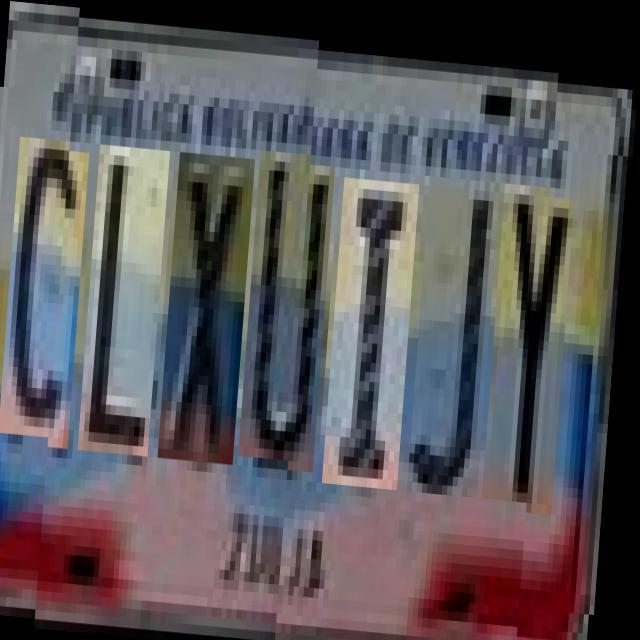C: (5, 146, 91, 447)
I: (330, 160, 422, 472)
J: (414, 158, 502, 478)
L: (84, 142, 172, 453)
U: (245, 145, 338, 456)
X: (165, 148, 258, 459)
Y: (490, 164, 578, 484)
